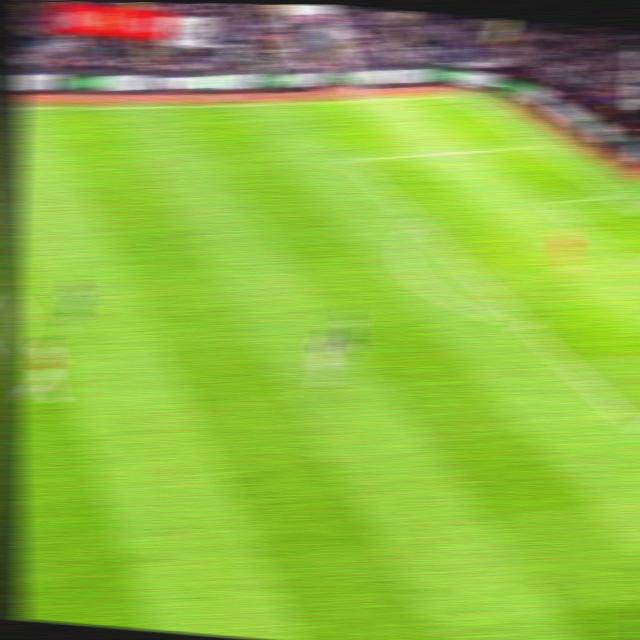bigarea_top_inner: (337, 148, 363, 167)
bigarea_top_outter: (522, 136, 545, 153)
bottom_arc_area_intersection: (513, 312, 540, 334)
corner: (441, 88, 471, 102)
smallarea_top_inner: (533, 193, 559, 210)
smallarea_top_outter: (597, 186, 625, 204)
top_arc_area_intersection: (403, 212, 429, 231)
